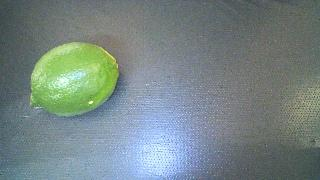EXPORTACION: (30, 42, 119, 116)
